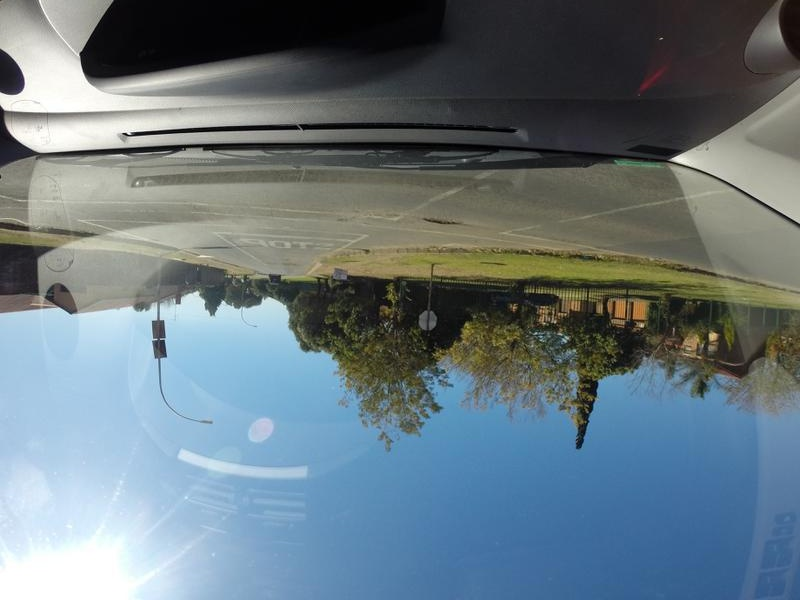pothole: (427, 217, 465, 225), (335, 215, 359, 223)
